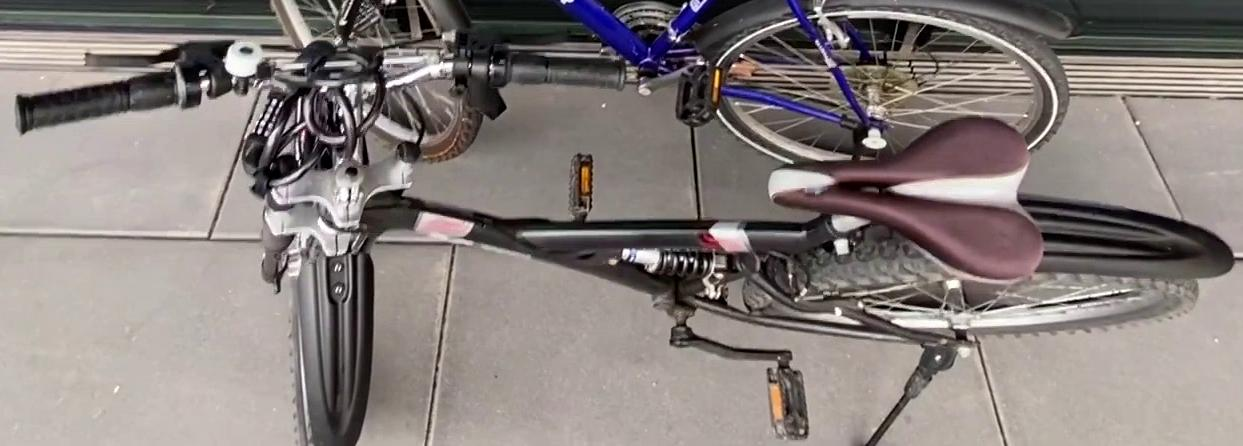Bicycle: (1, 0, 1243, 446)
